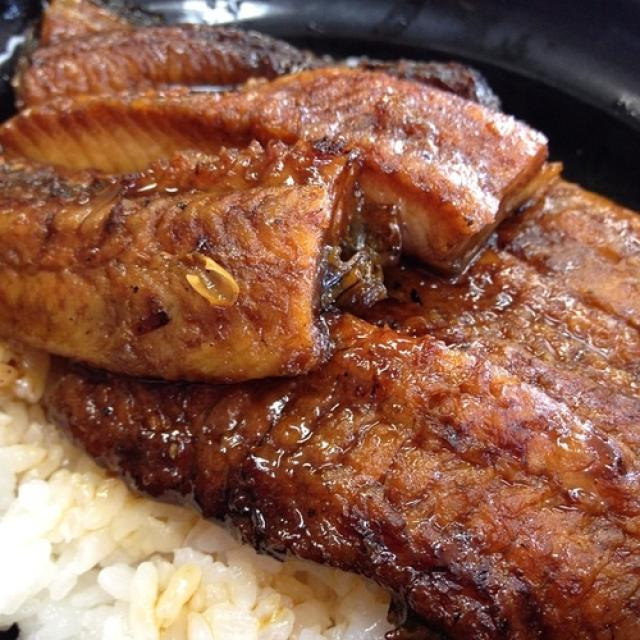熟制海鲜: (5, 5, 630, 623)
